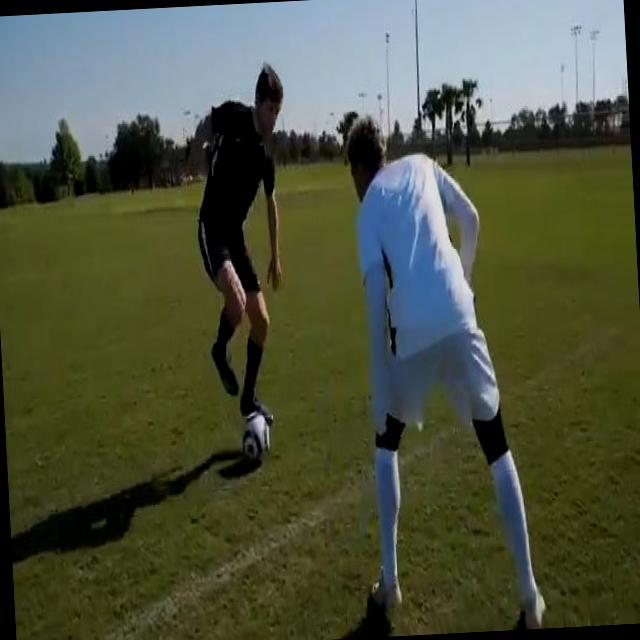Soccer Ball: (240, 408, 271, 463)
